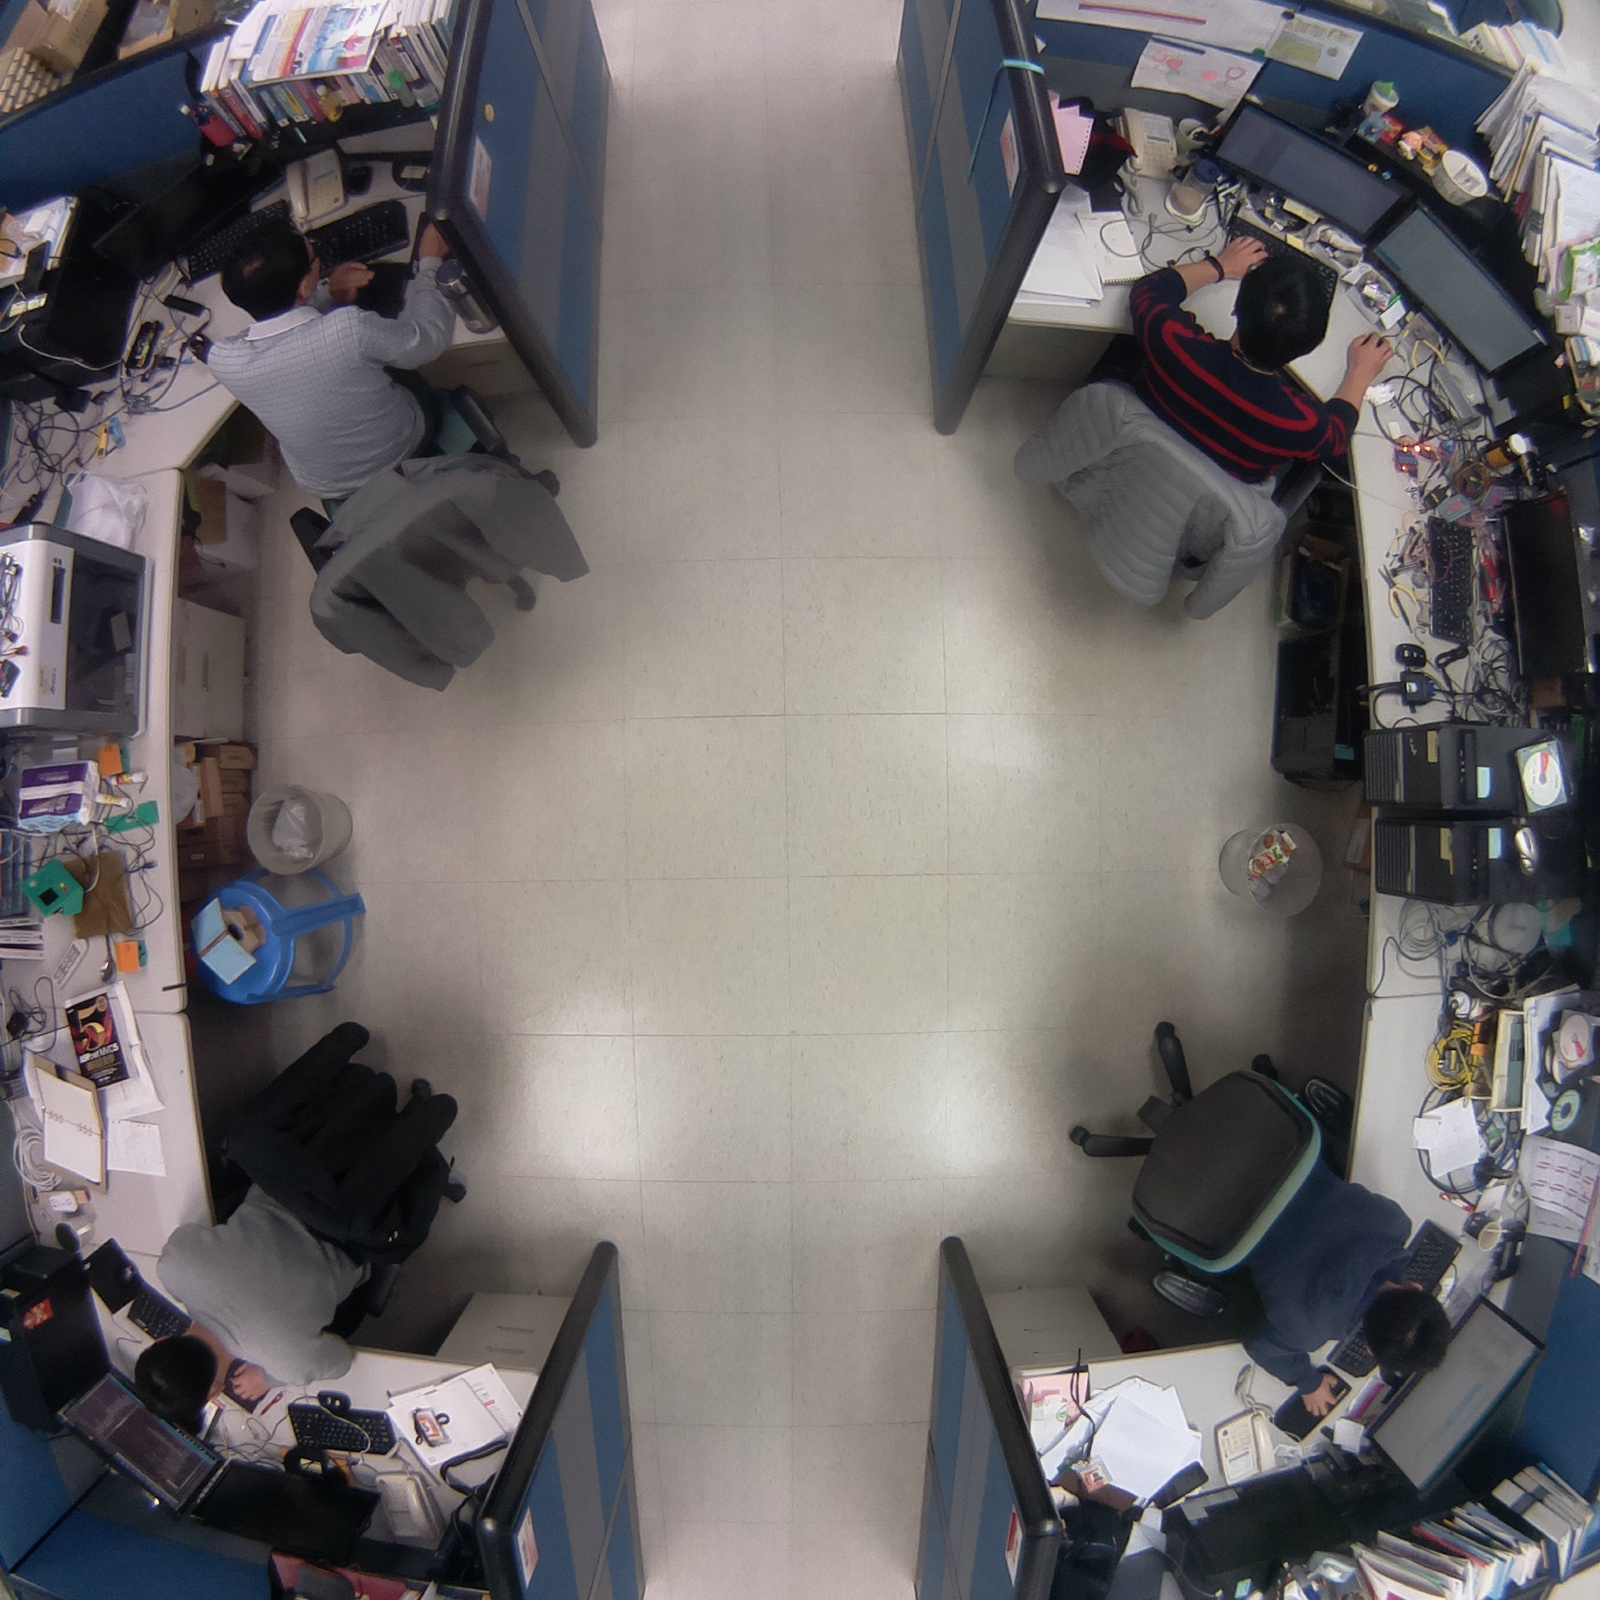head: (1225, 255, 1338, 376), (210, 212, 323, 323), (129, 1325, 229, 1431), (1359, 1276, 1459, 1382)
sitting: (194, 193, 604, 719), (1055, 996, 1453, 1437), (122, 1001, 494, 1450), (991, 232, 1401, 637)
